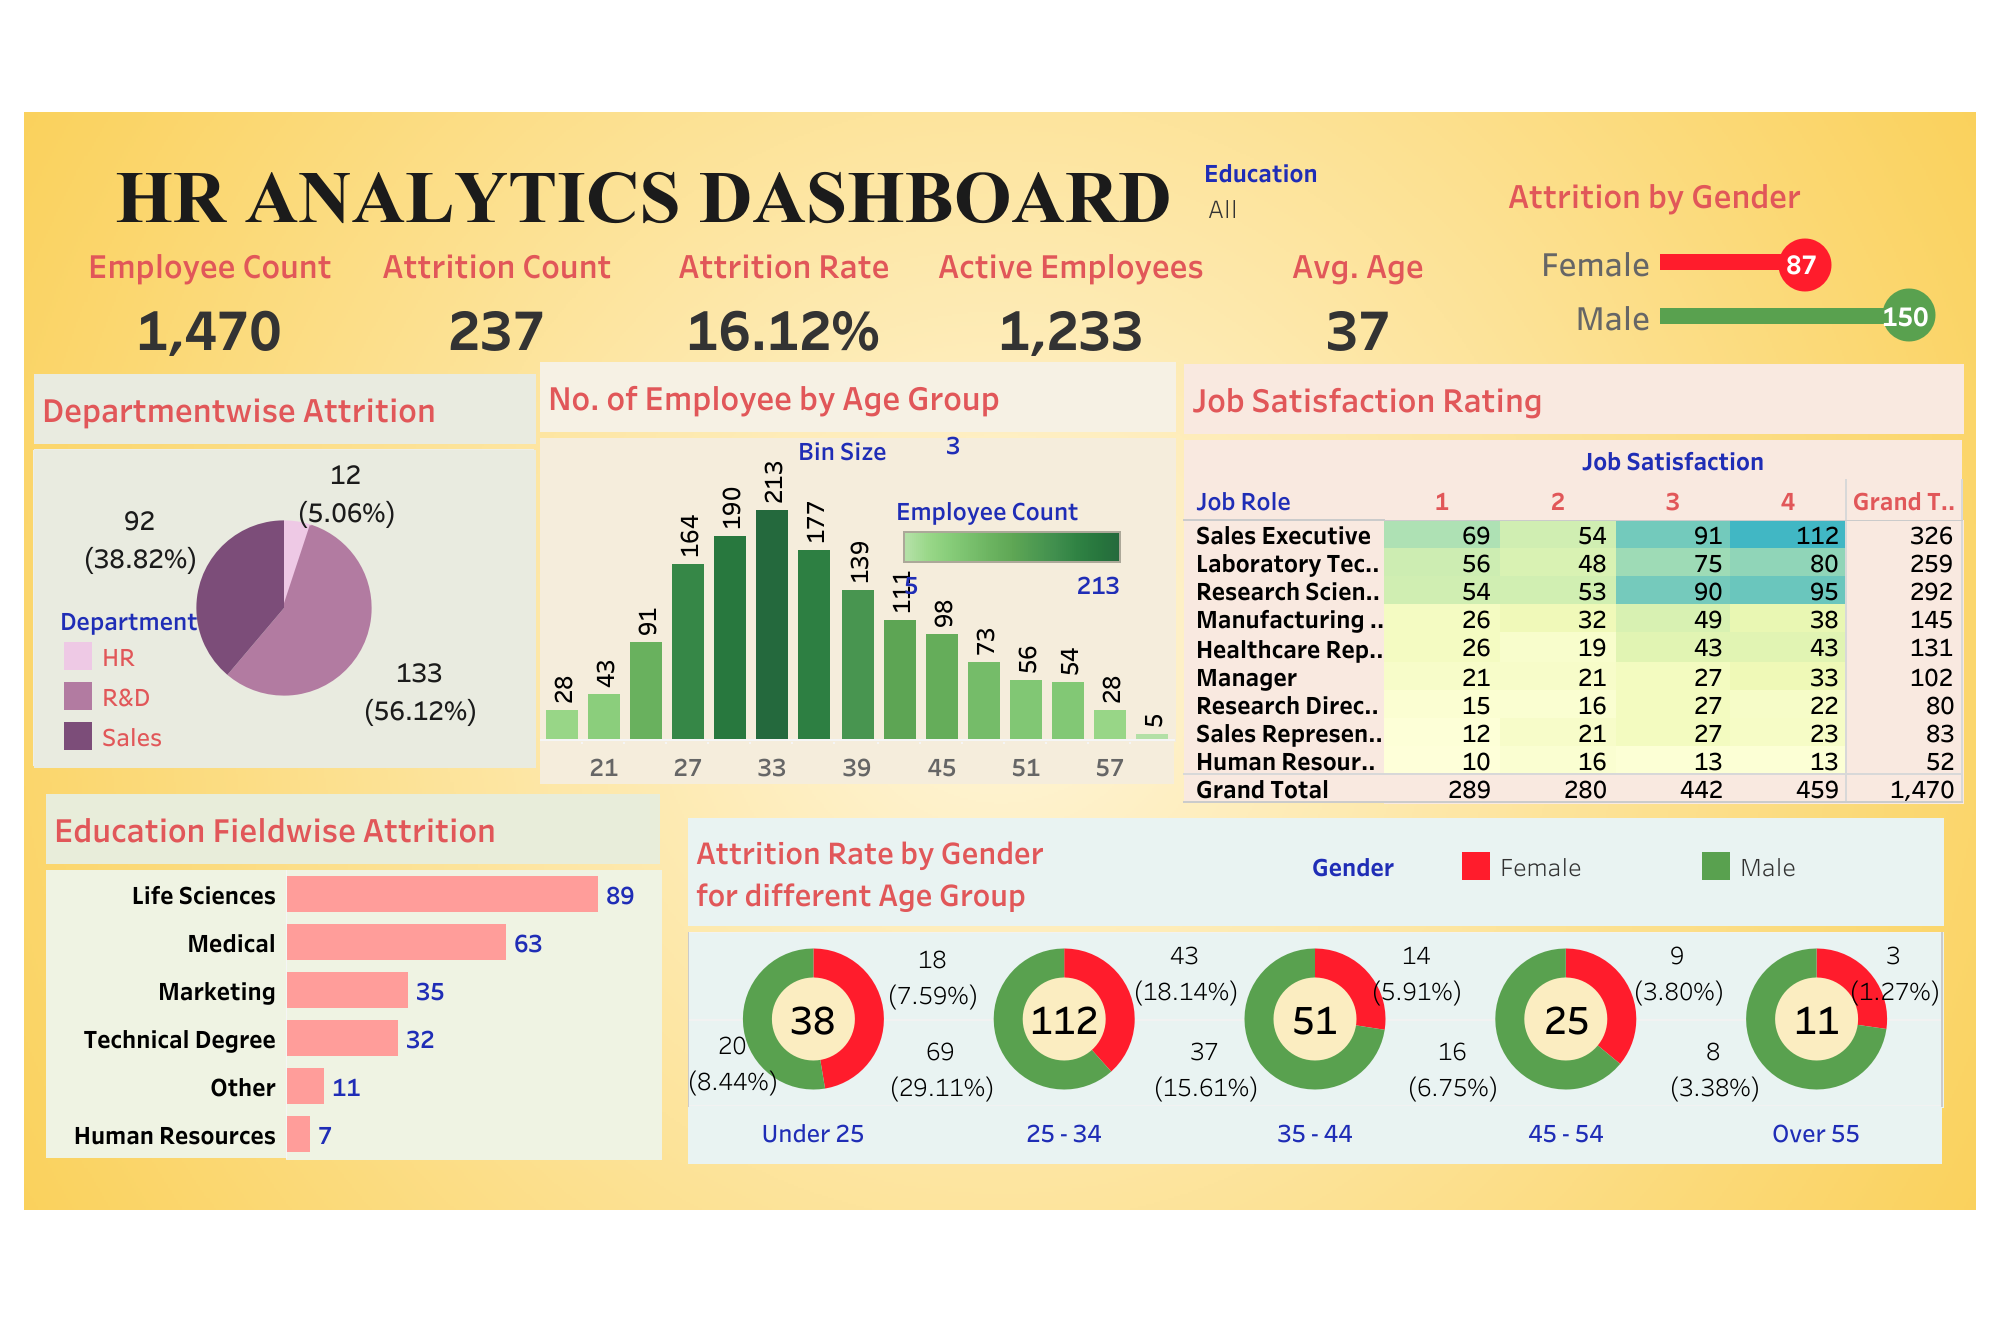

This screenshot's page, from the dashboard's own definition file:
{"tool":"tableau","page":{"name":"HR Analytics Dashboard","canvas":[1000,1000],"units":"permille","ordinal":0},"visuals":[{"type":"image","param":"Image/Untitled presentation.png","box":[8,11.4,984,977.1]},{"type":"text","box":[55,110,533,75.7]},{"type":"filter","title":"Departmentwise Attrition","param":"[federated.0w66ffb0rl6o0k11zeohg0e6wcur].[none:Education:nk]","box":[602,114.3,143,61.4]},{"type":"worksheet","title":"Attrition by Gender","mark":"Automatic","rows":["Gender"],"cols":["Calculation_0121833435201536","Calculation_0121833435201536"],"box":[750,121.4,224,137.1]},{"type":"worksheet","title":"KPI","mark":"Automatic","box":[33,172.9,718,95.7]},{"type":"worksheet","title":"No. of Employee by Age Group","mark":"Automatic","rows":["Employee Count"],"cols":["Age (bin)"],"box":[270,272.9,318,318.6]},{"type":"worksheet","title":"Job Satisfaction Rating","mark":"Square","rows":["Job Role"],"cols":["Job Satisfaction"],"box":[592,274.3,390,332.9]},{"type":"worksheet","title":"Departmentwise Attrition","mark":"Pie","box":[17,282.9,251,297.1]},{"type":"parameter","param":"[Parameters].[Parameter 1]","box":[399.2,322.2,190,34.6]},{"type":"legend","title":"No. of Employee by Age Group","param":"[federated.0w66ffb0rl6o0k11zeohg0e6wcur].[sum:Employee Count:qk]","box":[448,365.7,117,82.9]},{"type":"legend","title":"Departmentwise Attrition","param":"[federated.0w66ffb0rl6o0k11zeohg0e6wcur].[none:Department:nk]","box":[29,451.4,72,122.9]},{"type":"worksheet","title":"Education Fieldwise Attrition","mark":"Automatic","rows":["Education Field"],"cols":["Calculation_0121833435201536"],"box":[23,600,307,274.3]},{"type":"worksheet","title":"Attrition Rate by Gender for different Age Group","mark":"Pie","rows":["Calculation_0121833487167492","Calculation_0121833487167492"],"cols":["CF_age band"],"box":[344,618.6,628,261.4]},{"type":"legend","title":"Attrition Rate by Gender for different Age Group","param":"[federated.0w66ffb0rl6o0k11zeohg0e6wcur].[none:Gender:nk]","box":[656,638.6,316,41.4]}]}

Visuals, with their boxes on the dashboard's canvas, which has no fixed pixel size, in thousandths of its width and height (x1, y1, x2, y2). These are canvas units, not pixel positions in the 1998x1322 screenshot, which may show the page scaled, cropped or inside an application window:
image: left=8, top=11, right=992, bottom=988
text: left=55, top=110, right=588, bottom=186
"Departmentwise Attrition" filter: left=602, top=114, right=745, bottom=176
"Attrition by Gender" worksheet: left=750, top=121, right=974, bottom=258
"KPI" worksheet: left=33, top=173, right=751, bottom=269
"No. of Employee by Age Group" worksheet: left=270, top=273, right=588, bottom=592
"Job Satisfaction Rating" worksheet (Square marks): left=592, top=274, right=982, bottom=607
"Departmentwise Attrition" worksheet (Pie marks): left=17, top=283, right=268, bottom=580
parameter: left=399, top=322, right=589, bottom=357
"No. of Employee by Age Group" legend: left=448, top=366, right=565, bottom=449
"Departmentwise Attrition" legend: left=29, top=451, right=101, bottom=574
"Education Fieldwise Attrition" worksheet: left=23, top=600, right=330, bottom=874
"Attrition Rate by Gender for different Age Group" worksheet (Pie marks): left=344, top=619, right=972, bottom=880
"Attrition Rate by Gender for different Age Group" legend: left=656, top=639, right=972, bottom=680
